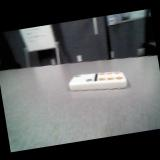domino: (68, 71, 127, 90)
